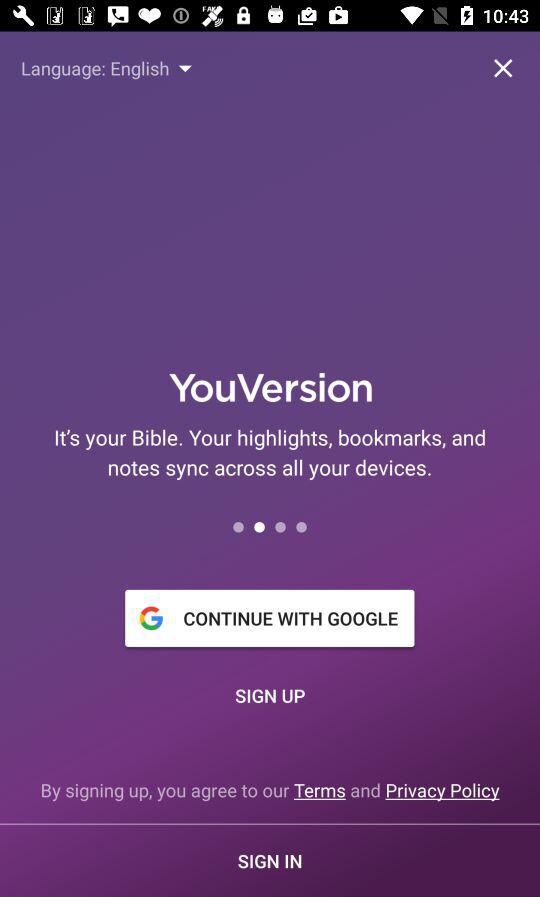Icon: (493, 59, 514, 80), (178, 65, 193, 74)
PageIndicator: (232, 521, 309, 536)
Text: (55, 428, 486, 482), (42, 782, 501, 802), (169, 373, 374, 405), (22, 61, 170, 82), (235, 687, 306, 705)
TextButton: (1, 823, 540, 897), (125, 590, 416, 648)
UpperTaskBar: (1, 1, 540, 33)
